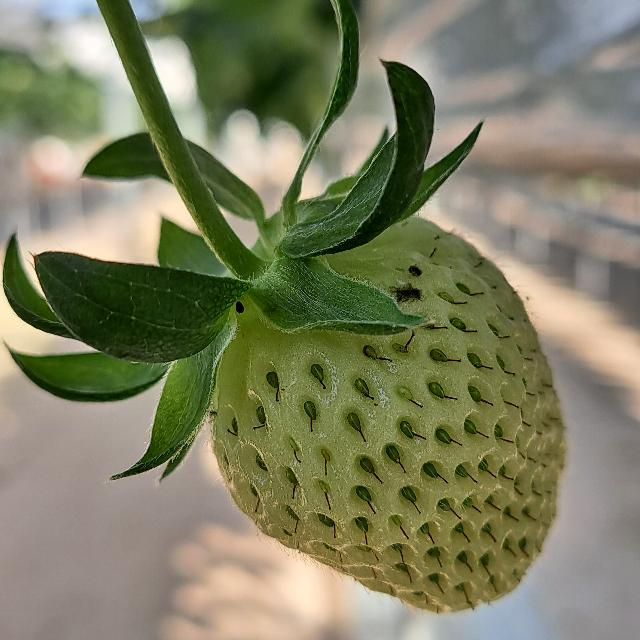Health_25: (208, 214, 566, 612)
